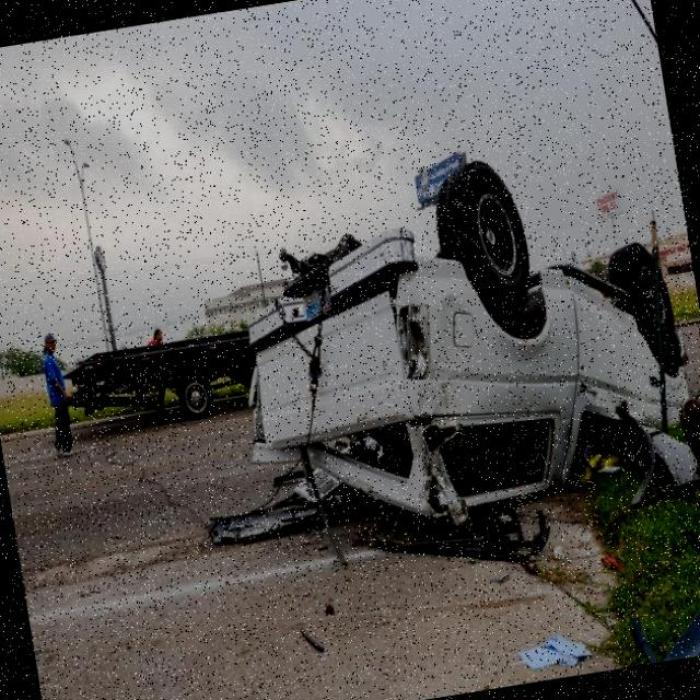Accident: (219, 201, 700, 581)
